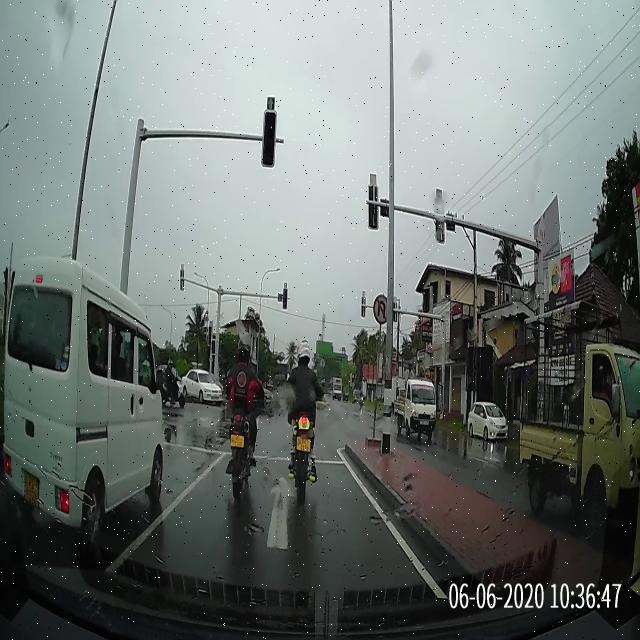forward: (131, 472, 421, 565)
